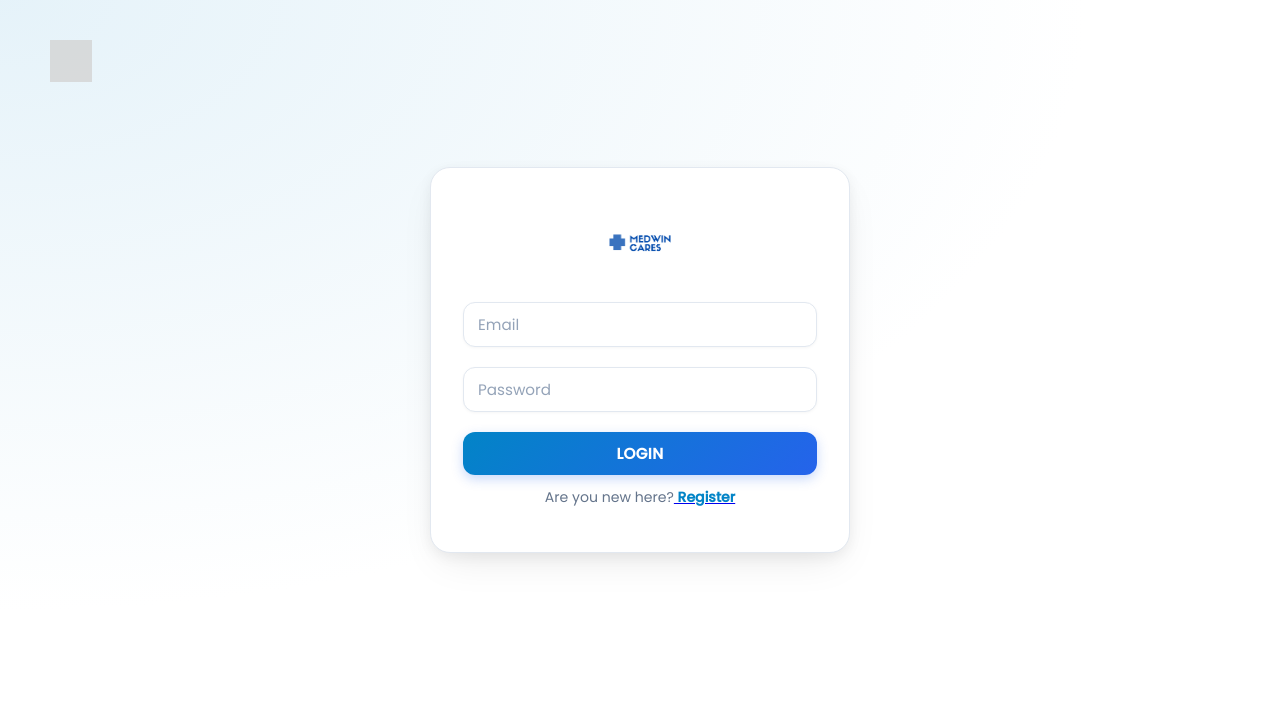
Doctor Authentication Flow › successfully logs in with valid credentials, updates navbar, and persists session
The width and height of the screenshot is (1280, 720).
In the field with placeholder "Email": (640, 325) left=463, top=302, right=817, bottom=347, type "ada@example.com"
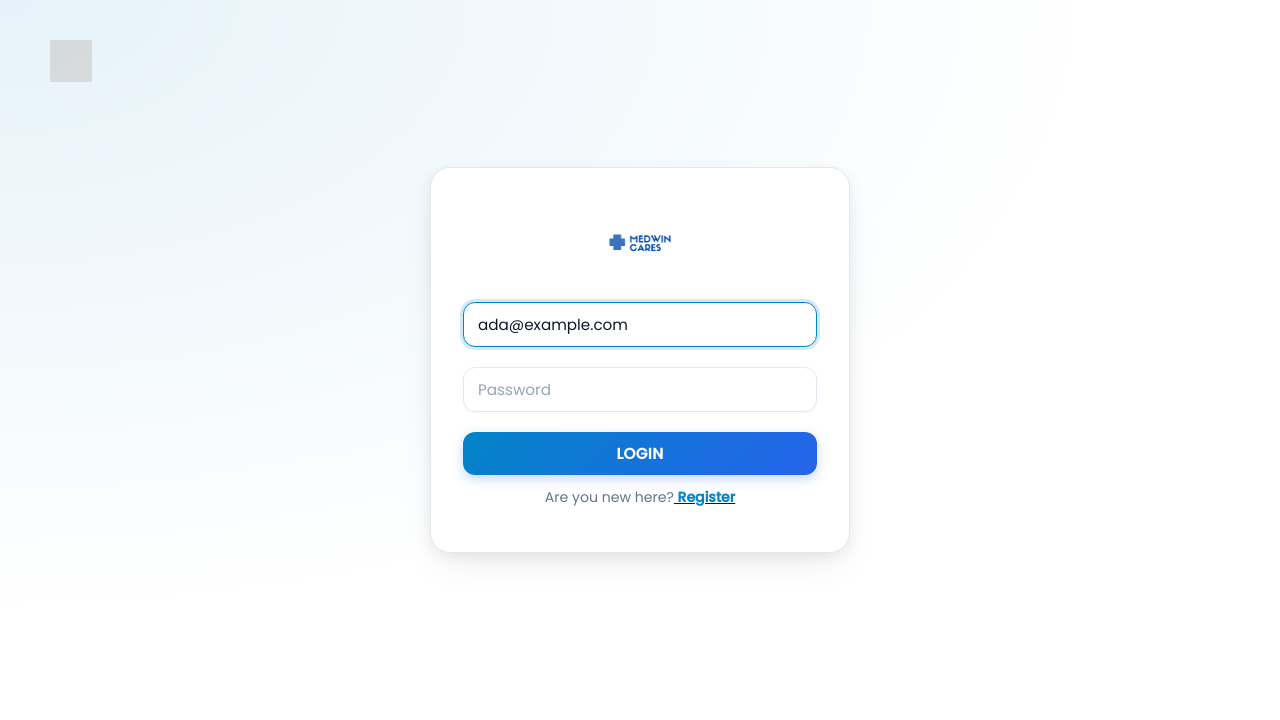
In the password field with placeholder "Password": (640, 390) left=463, top=367, right=817, bottom=412, type "password123"
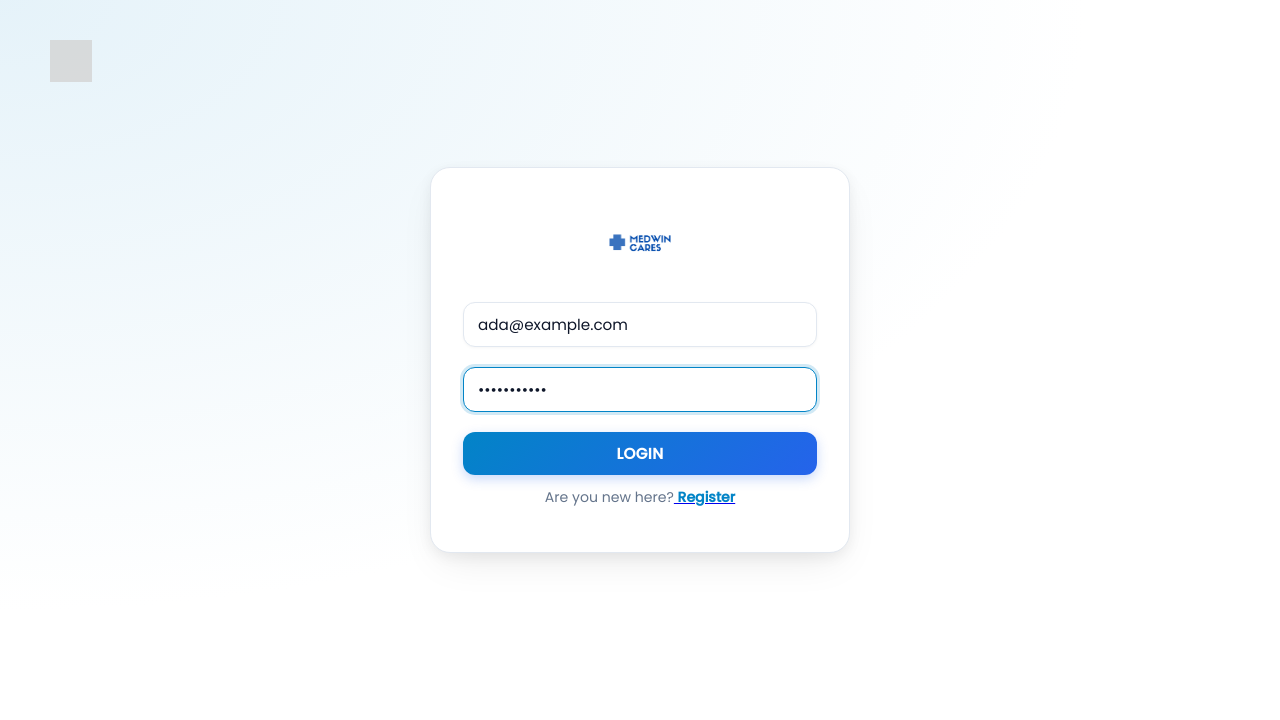
Click the submit button: click(640, 454) left=463, top=432, right=817, bottom=475
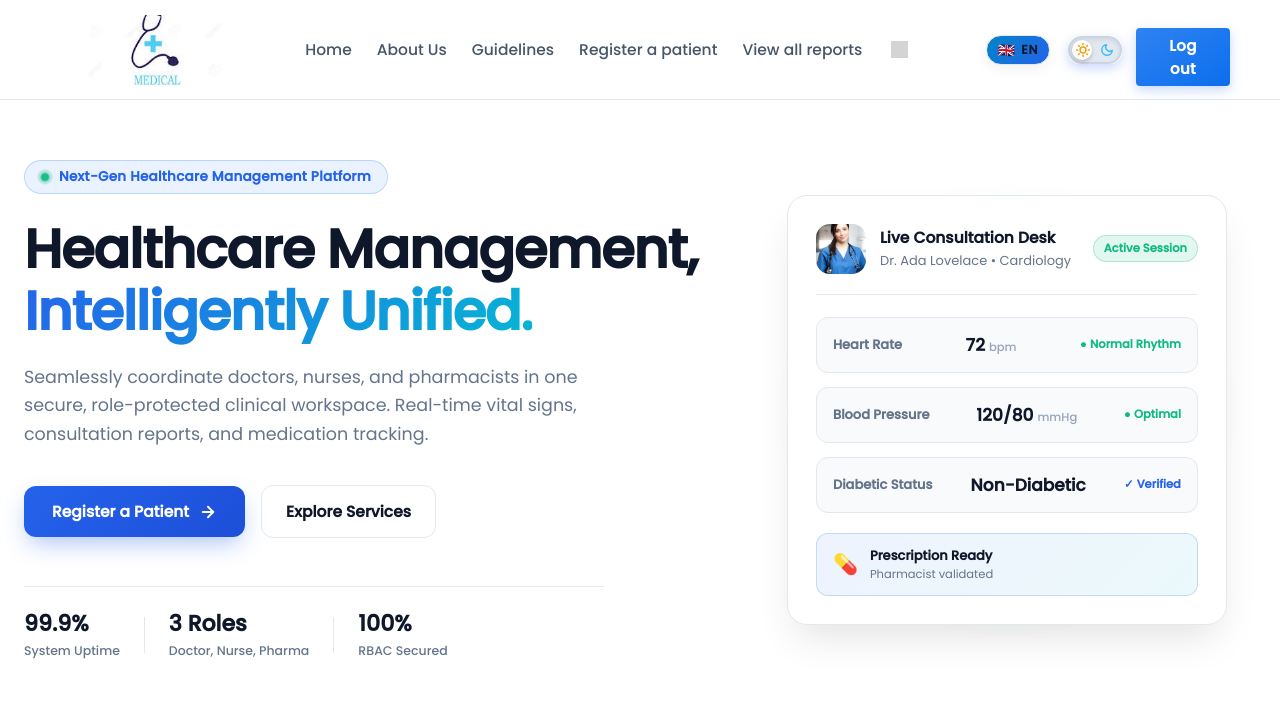
Now the link "View all reports" is shown, box left=742, top=39, right=862, bottom=60
